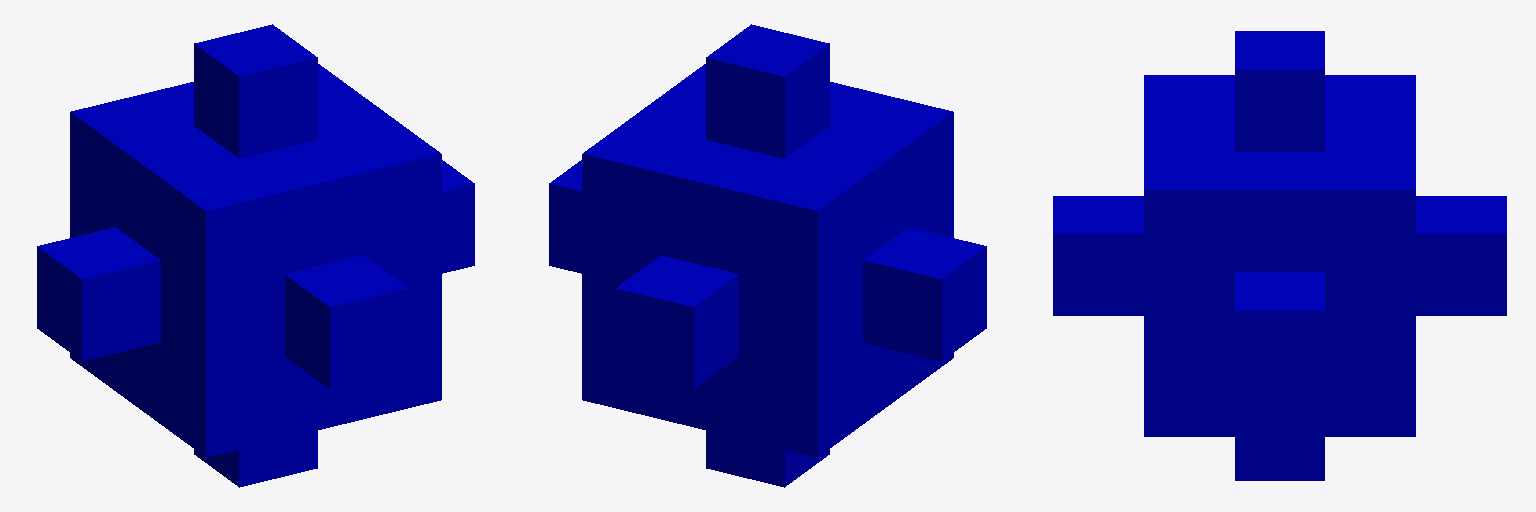
The model's file is ball_cube.obj.
3 views of the same model, side by side, from view 1: azimuth 30°, elevation 25°; view 2: azimuth 150°, elevation 25°; view 3: azimuth 270°, elevation 25° (orthographic).
Visible parts, largest first — view 1: Outside_ball_cube; view 2: Outside_ball_cube; view 3: Outside_ball_cube.
Part boxes in pixels (x1,y1,x2,y2): Outside_ball_cube: (37, 24, 474, 487); Outside_ball_cube: (549, 24, 986, 487); Outside_ball_cube: (1053, 31, 1506, 480).
Bounding box in the file's own units: 0.1824 × 0.1824 × 0.1824.